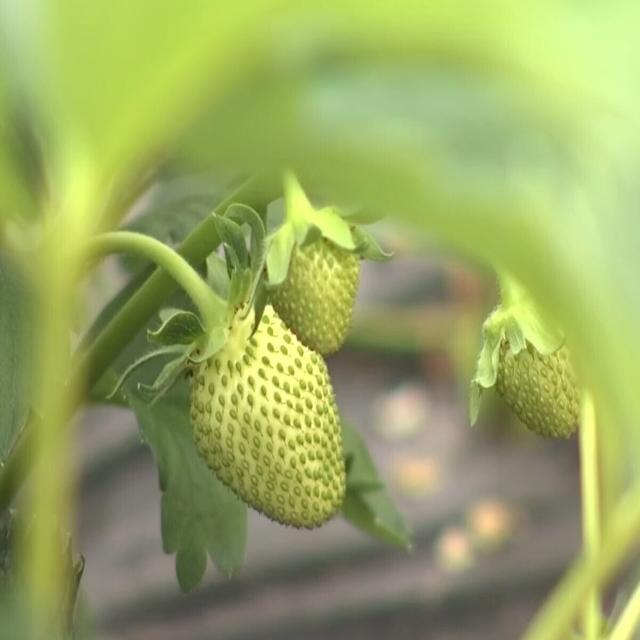unripe: (190, 295, 345, 529), (269, 210, 360, 352), (492, 298, 582, 441)
